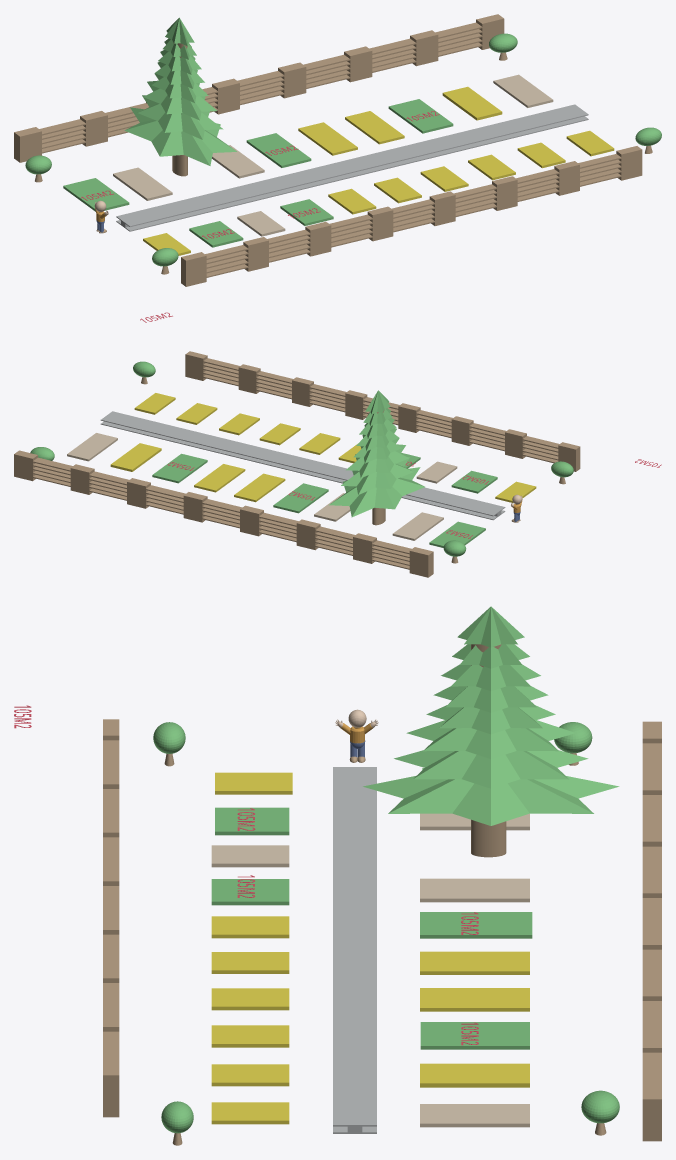
File: Swanky Kup-Esboo.glb
3 renders of one model, top to bottom at view 1: azimuth 30°, elevation 25°; view 2: azimuth 150°, elevation 25°; view 3: azimuth 270°, elevation 25°, orthographic. The views are drawn at different scales.
Visible parts, largest first — view 1: Mesh_Mesh_head_geo.001_lambert2SG.001; view 2: Mesh_Mesh_head_geo.001_lambert2SG.001; view 3: Mesh_Mesh_head_geo.001_lambert2SG.001.
Boxes of the visible parts, bbox=[...] form: Mesh_Mesh_head_geo.001_lambert2SG.001: bbox=[14, 14, 661, 322]; Mesh_Mesh_head_geo.001_lambert2SG.001: bbox=[14, 351, 661, 577]; Mesh_Mesh_head_geo.001_lambert2SG.001: bbox=[14, 606, 661, 1145].
Bounding box in the file's own units: 0.6472 × 0.168 × 0.4.
